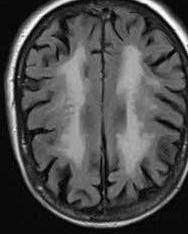Normal_Brain: (9, 1, 188, 234)
